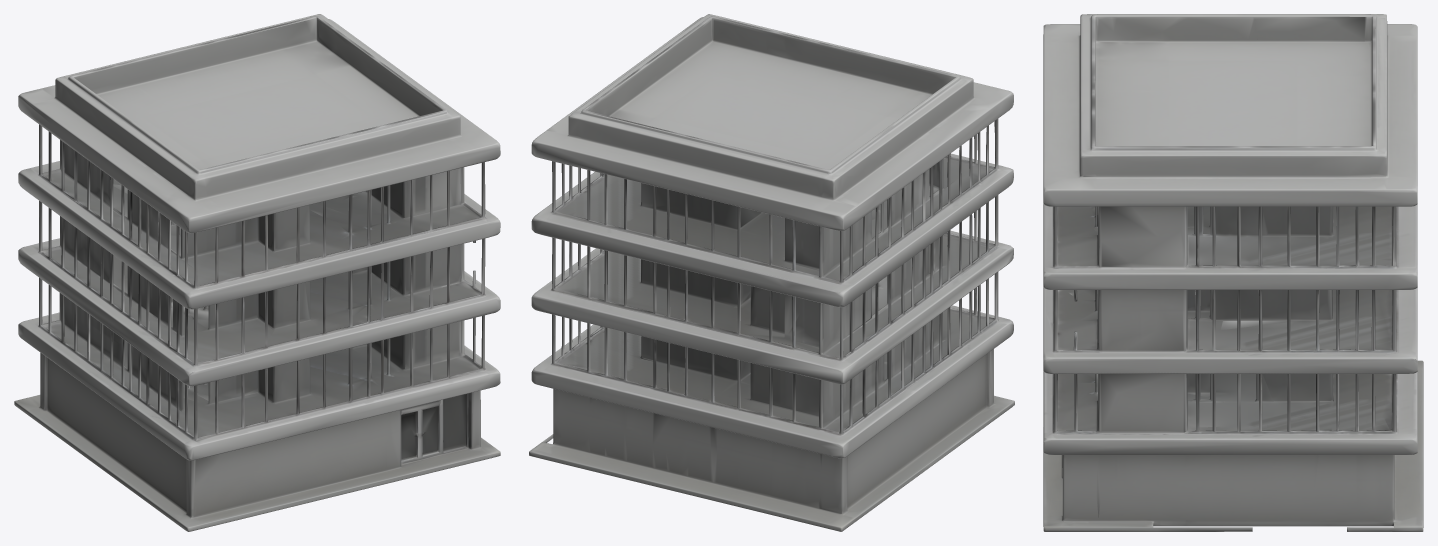
The picture shows the model from 3 angles, left to right: view 1: azimuth 30°, elevation 25°; view 2: azimuth 150°, elevation 25°; view 3: azimuth 270°, elevation 25°; orthographic projection. The views are drawn at different scales.
Visible parts, largest first — view 1: node_0; view 2: node_0; view 3: node_0.
Part boxes in pixels (x1,y1,x2,y2): node_0: (14, 14, 500, 531); node_0: (529, 14, 1014, 531); node_0: (1043, 14, 1423, 531).
Bounding box in the file's own units: 0.6969 × 0.7167 × 0.6703.
Materials: 1 (1 with a texture image).
